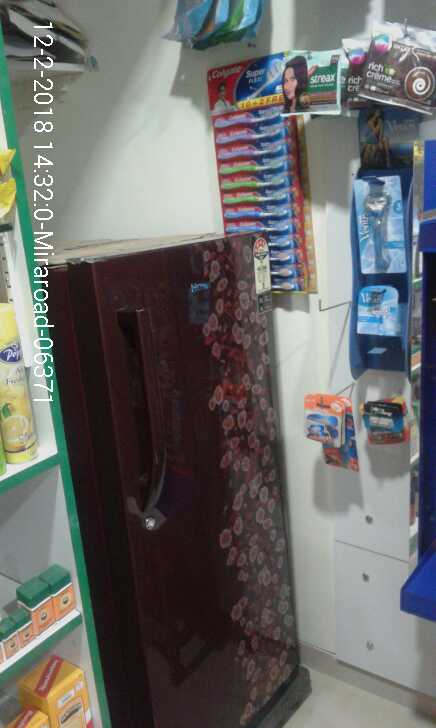venus: (354, 176, 414, 277), (305, 389, 349, 452), (356, 286, 400, 335), (361, 401, 408, 441)
